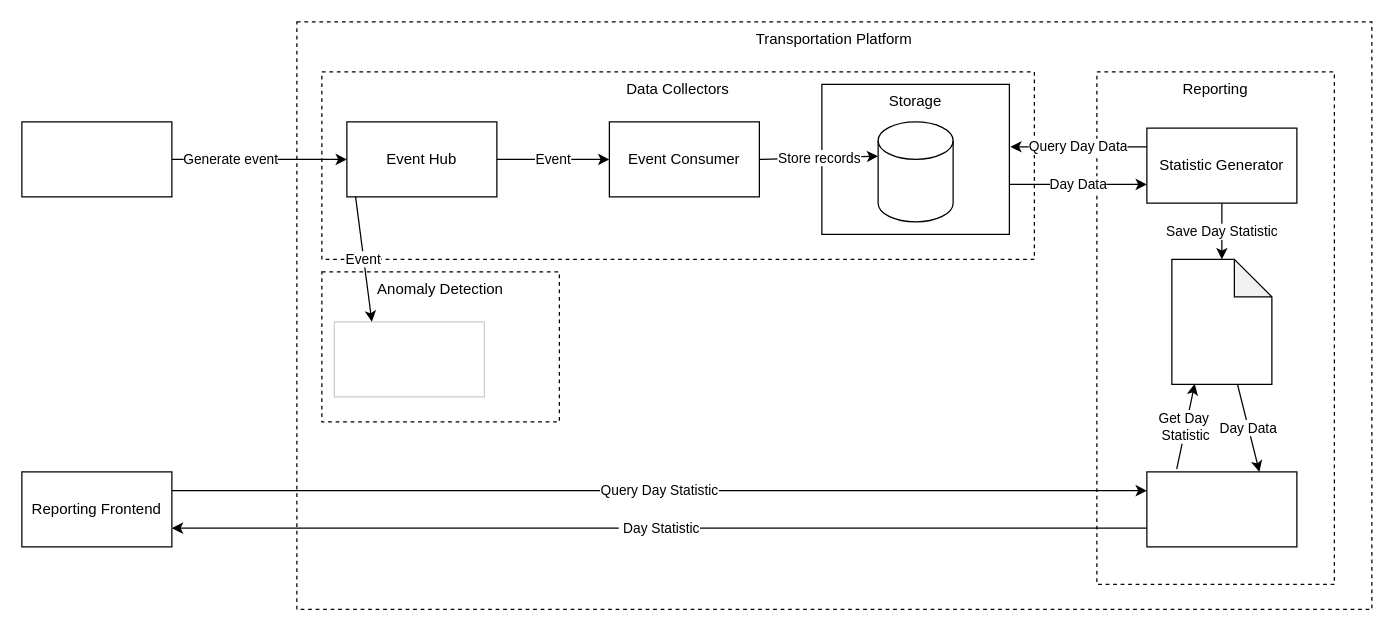
Image size: 1394x631. Some labels were removed from this diagram. Each missing label, with the centre of its shape:
"Anomaly Detection Event Consumer" belongs at [408,359].
"Client Device" belongs at [96,159].
"Records Table" belongs at [915,171].
"Reports Blob Storage" belongs at [1221,321].
"Stats Reporter" belongs at [1221,509].
